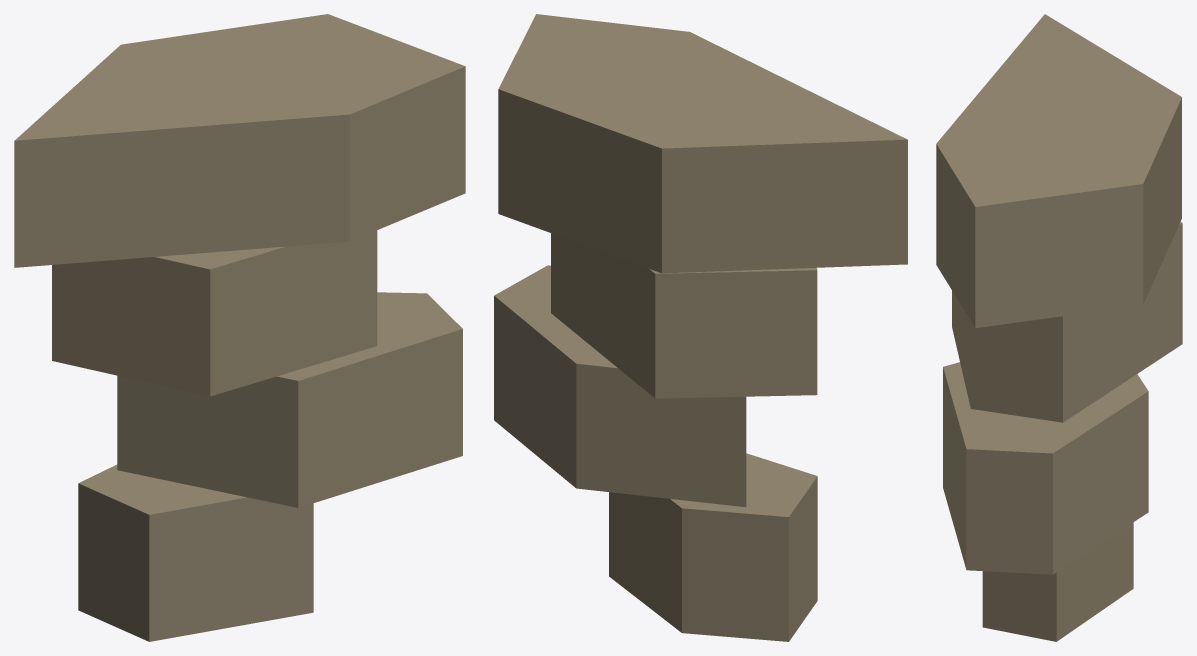
The model's file is 地形块A2.FBX.
3 renders of one model, left to right at view 1: azimuth 30°, elevation 25°; view 2: azimuth 150°, elevation 25°; view 3: azimuth 270°, elevation 25°, orthographic. The views are drawn at different scales.
Parts seen in each view (by area): view 1: 地形块A2; view 2: 地形块A2; view 3: 地形块A2.
Boxes of the visible parts, box(x1,y1,x2,y2) form: 地形块A2: box(14, 14, 465, 641); 地形块A2: box(494, 14, 907, 641); 地形块A2: box(936, 14, 1182, 641).
Bounding box in the file's own units: 2.66 × 3.13 × 1.43.
Materials: 1 (1 with a texture image).
